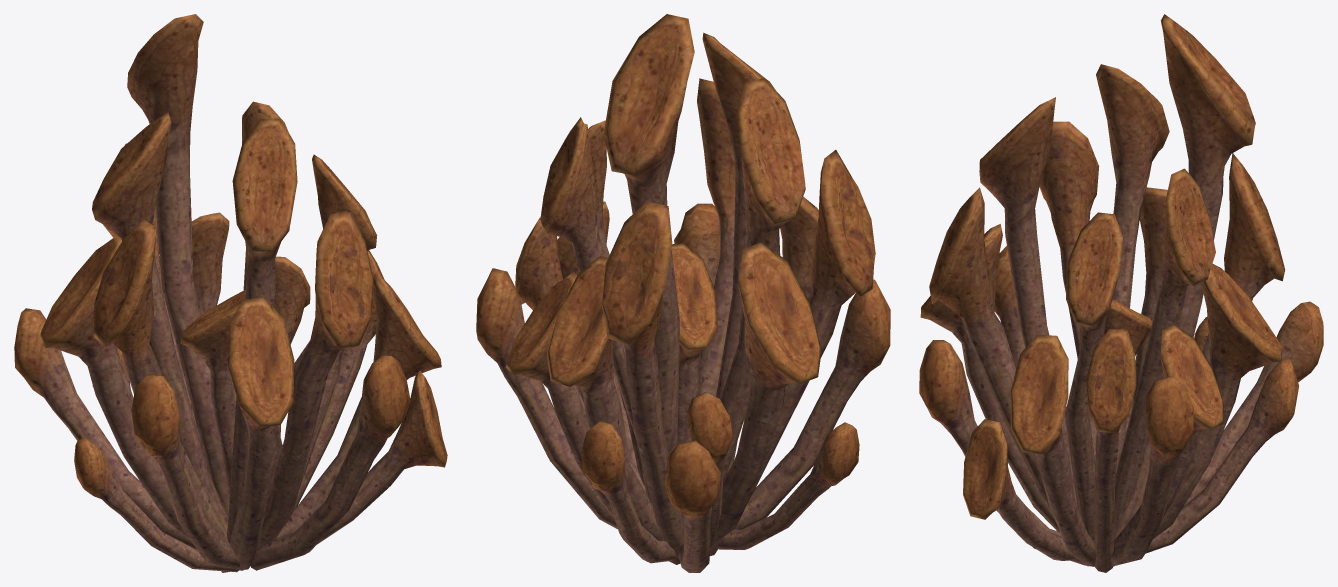
Rendered from Plant - Alien Shroom plant2 1-BMB50EHj.glb.
The picture shows the model from 3 angles, left to right: view 1: azimuth 30°, elevation 25°; view 2: azimuth 150°, elevation 25°; view 3: azimuth 270°, elevation 25°; orthographic projection. The views are drawn at different scales.
Parts seen in each view (by area): view 1: Shroom_Plant2_1_L0(Clone); view 2: Shroom_Plant2_1_L0(Clone); view 3: Shroom_Plant2_1_L0(Clone).
Part boxes in pixels (x1,y1,x2,y2): Shroom_Plant2_1_L0(Clone): (14,14,447,572); Shroom_Plant2_1_L0(Clone): (476,14,890,572); Shroom_Plant2_1_L0(Clone): (919,14,1323,572).
Size of the model in its own units: 0.8566 by 1.34 by 0.9239.
Materials: 1 (1 with a texture image).
